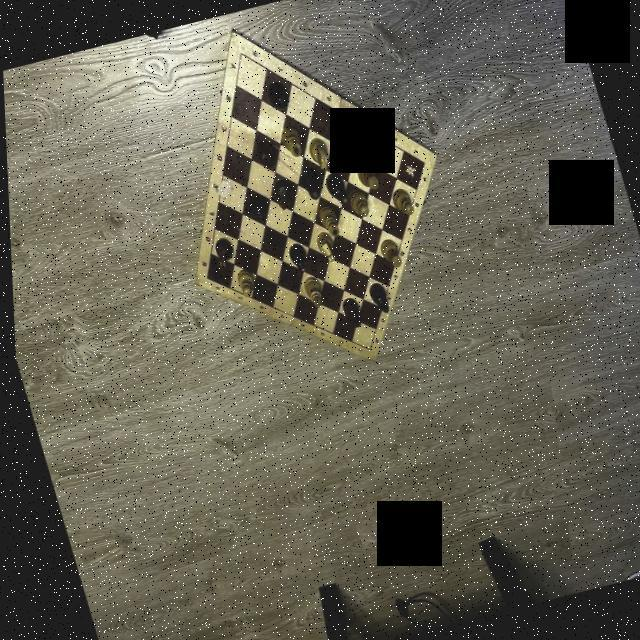chess-table-corners: (237, 49, 244, 58), (202, 274, 207, 280), (420, 160, 425, 165), (364, 346, 368, 352)
